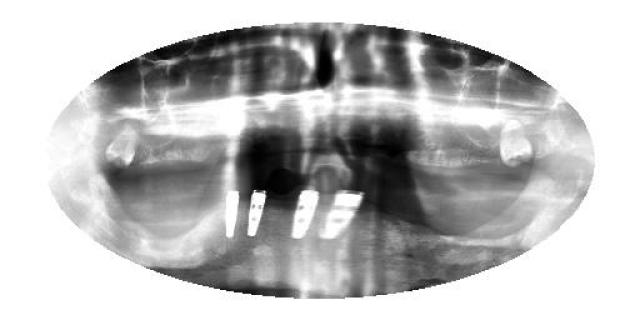Implant: (290, 188, 321, 242), (245, 188, 269, 238), (222, 188, 242, 238)
